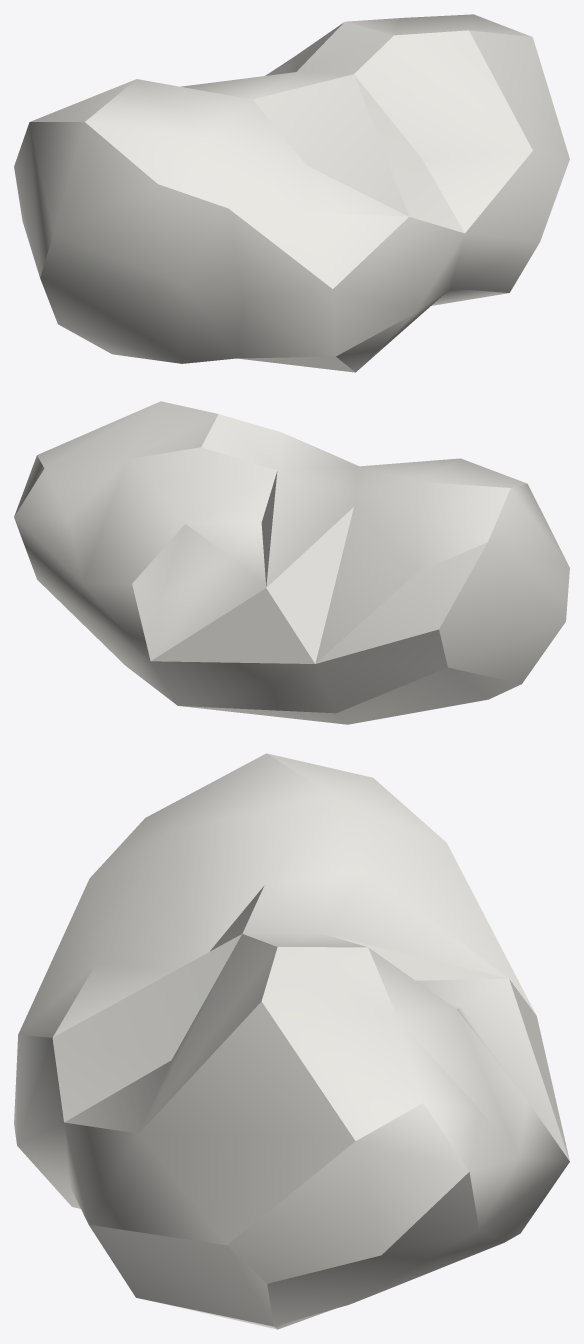
The model's file is rock_7.fbx.
3 renders of one model, top to bottom at view 1: azimuth 30°, elevation 25°; view 2: azimuth 150°, elevation 25°; view 3: azimuth 270°, elevation 25°, orthographic. The views are drawn at different scales.
Parts seen in each view (by area): view 1: rock.065; view 2: rock.065; view 3: rock.065.
Boxes of the visible parts, x1=… form: rock.065: x1=14, y1=14, x2=569, y2=372; rock.065: x1=14, y1=401, x2=569, y2=724; rock.065: x1=14, y1=753, x2=569, y2=1329.
Size of the model in its own units: 326 by 154 by 218.
